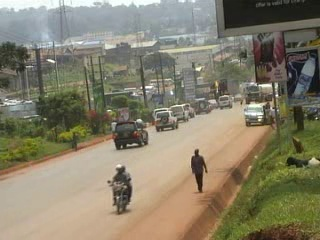Car: (110, 118, 150, 152), (153, 111, 179, 132), (189, 96, 212, 116), (232, 90, 243, 104), (207, 94, 217, 108)
Motorcycle: (106, 160, 135, 215), (133, 114, 146, 129)
